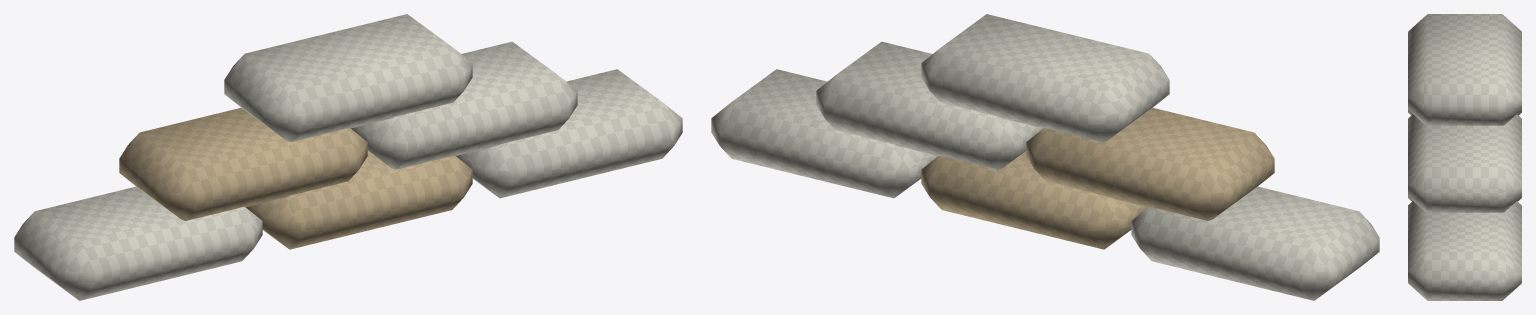
File: sacos_areia_pilha.glb
The picture shows the model from 3 angles, left to right: view 1: azimuth 30°, elevation 25°; view 2: azimuth 150°, elevation 25°; view 3: azimuth 270°, elevation 25°; orthographic projection. The views are drawn at different scales.
Visible parts, largest first — view 1: Inteiro; view 2: Inteiro; view 3: Inteiro.
Part boxes in pixels (left/top/right/bottom): Inteiro: left=14, top=14, right=682, bottom=300; Inteiro: left=711, top=14, right=1379, bottom=300; Inteiro: left=1408, top=14, right=1521, bottom=300.
Size of the model in its own units: 1.84 by 0.46 by 0.35.
1 material, 1 textured.
